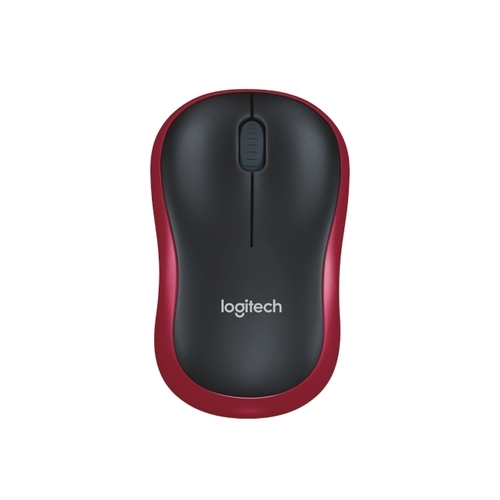logitech-mouse-m185: (142, 85, 356, 419)
